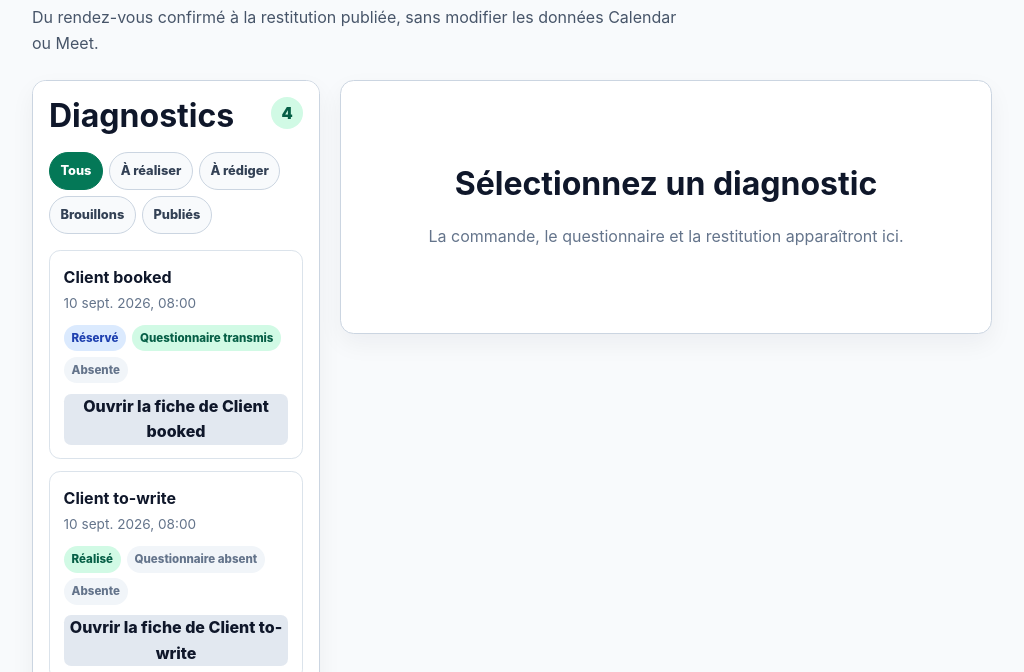
administration des Diagnostics IA et restitutions › affiche commande, rendez-vous et questionnaire strictement en lecture seule
The width and height of the screenshot is (1024, 672).
Click the button "Ouvrir la fiche de Client booked" at (176,419), box [64,394,288,445]
(page scrolled)
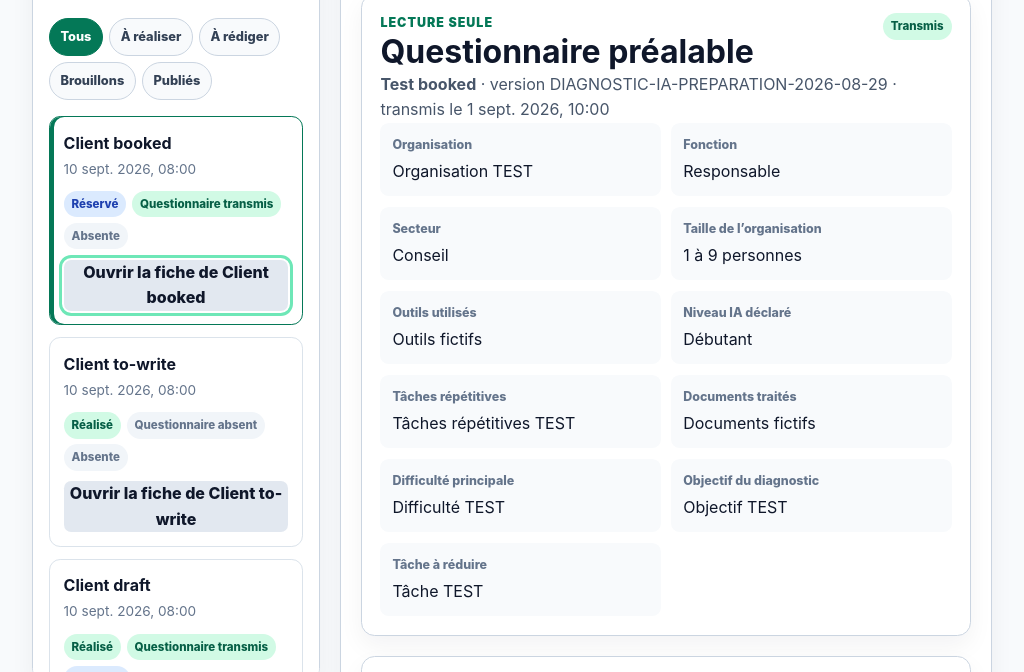
Check: the element "Questionnaire préalable" shows "Organisation TEST", box [392,161,533,181]
Check: the element "Questionnaire préalable" shows "Objectif TEST", box [683,497,788,517]
